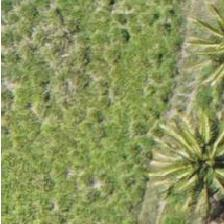coconut_tree: (177, 117, 223, 207)
